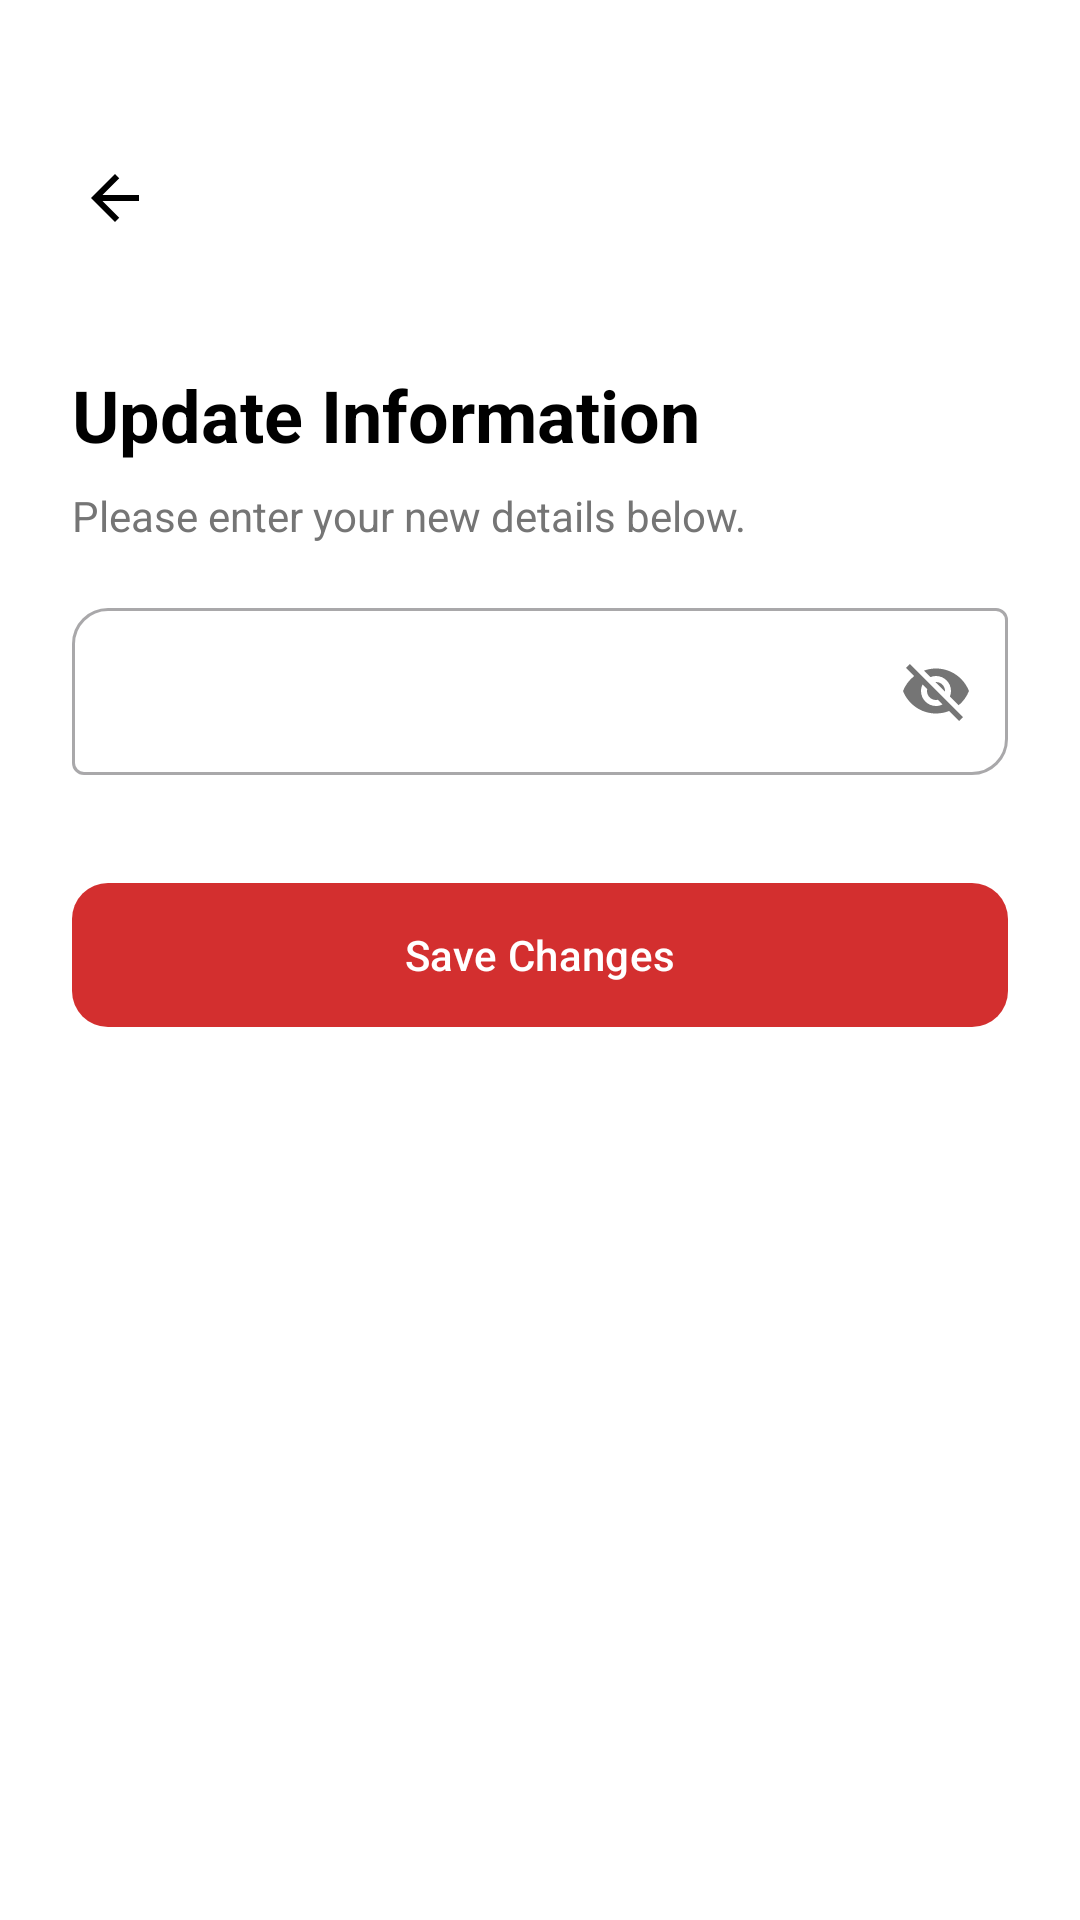

Screen size 1080 × 1920. Icon name, then its center in pixels as [x,y]:
back: [115,198]
